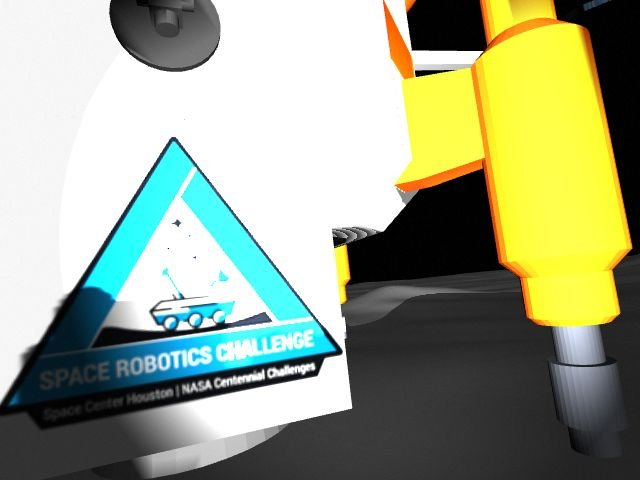basemarker: (1, 137, 343, 432)
